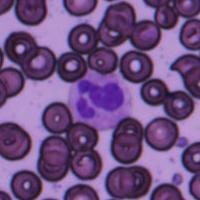N: (67, 70, 133, 130)
